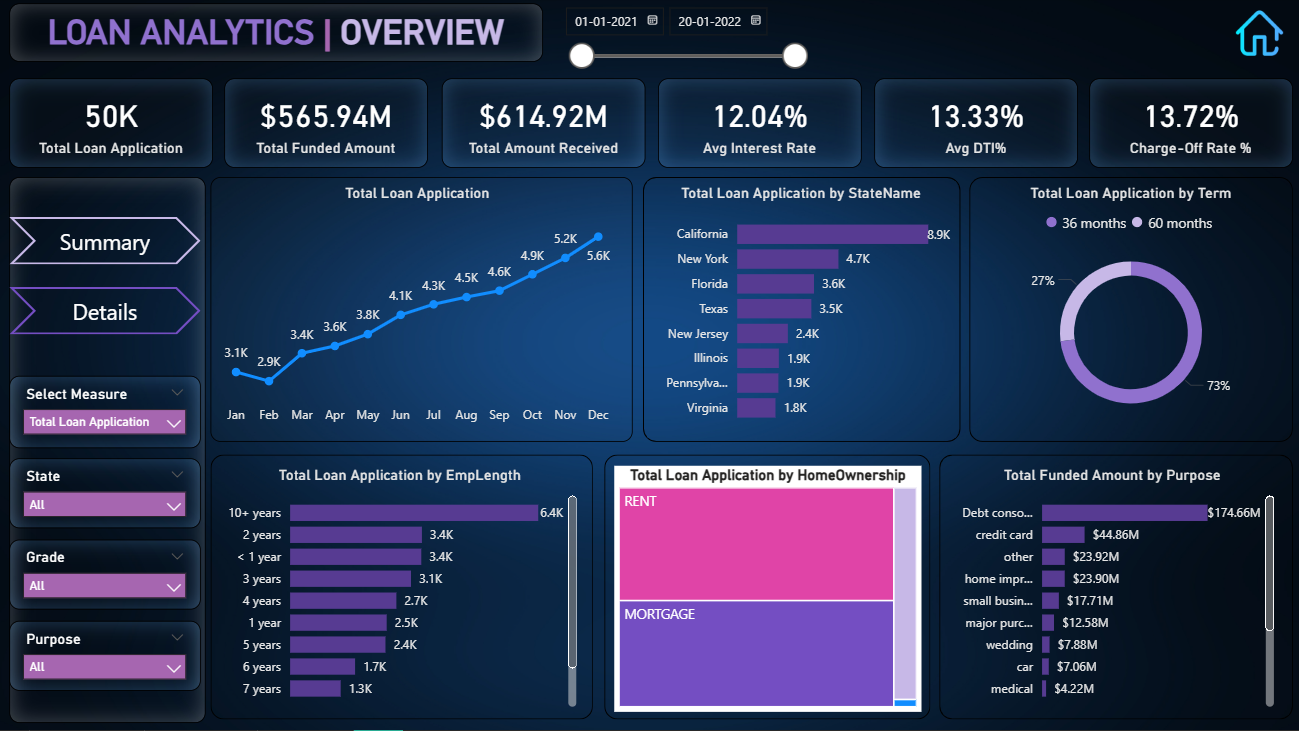

What the dashboard file says about the page in this screenshot:
{"tool":"powerbi","page":{"name":"Overview","canvas":[1280,720],"ordinal":1},"visuals":[{"type":"shape","box":[953.4,176.7,317.8,260.1],"z":0},{"type":"shape","box":[208.6,176.7,414.7,260.1],"z":1000},{"type":"shape","box":[11,176.7,192.6,536.2],"z":2000},{"type":"shape","box":[633.1,176.7,311.7,260.1],"z":3000},{"type":"shape","box":[208.6,449.1,375.5,260.1],"z":4000},{"type":"slicer","fields":{"Values":["Loan.Grade"]},"box":[11,532.5,187.7,68.7],"z":5000},{"type":"slicer","fields":{"Values":["LoanPurpose.Purpose"]},"box":[11,612.3,187.7,68.7],"z":6000},{"type":"slicer","fields":{"Values":["State.StateName"]},"box":[11,452.8,187.7,68.7],"z":7000},{"type":"lineChart","fields":{"Y":["Measure_table.Total_Loan_Application"],"Category":["Date.Months"]},"box":[216,184.1,391.4,244.2],"z":8000},{"type":"clusteredBarChart","fields":{"Y":["Measure_table.Total_Loan_Application"],"Category":["State.StateName"]},"box":[636.8,184.1,303.1,244.2],"z":9000},{"type":"donutChart","fields":{"Y":["Measure_table.Total_Loan_Application"],"Category":["Loan.Term"]},"box":[965.6,184.1,293.3,244.2],"z":10000},{"type":"clusteredBarChart","fields":{"Y":["Measure_table.Total_Loan_Application"],"Category":["Customer.EmpLength"]},"box":[216,460.1,357.1,241.7],"z":11000},{"type":"shape","box":[595.1,449.1,320.2,260.1],"z":12000},{"type":"treemap","fields":{"Values":["Measure_table.Total_Loan_Application"],"Group":["Customer.HomeOwnership"]},"box":[604.9,460.1,301.8,241.7],"z":13000},{"type":"shape","box":[923.9,449.1,347.2,260.1],"z":14000},{"type":"clusteredBarChart","title":"Total Funded Amount by Purpose","fields":{"Y":["Measure_table.Total_Funded_Amount"],"Category":["LoanPurpose.Purpose"]},"box":[930.1,460.1,327.6,241.7],"z":15000},{"type":"slicer","fields":{"Values":["Select Measure .Select Measure "]},"box":[11,371.8,187.7,71.2],"z":16000},{"type":"card","fields":{"Values":["Measure_table.Total_Loan_Application"]},"box":[11,79.8,200,88.3],"z":17000},{"type":"card","fields":{"Values":["Measure_table.Total_Funded_Amount"]},"box":[222.1,79.8,200,88.3],"z":18000},{"type":"card","fields":{"Values":["Measure_table.Total Amount Received"]},"box":[435.6,79.8,200,88.3],"z":19000},{"type":"card","fields":{"Values":["Measure_table.Average_Interest_Rate"]},"box":[647.9,79.8,200,88.3],"z":20000},{"type":"card","fields":{"Values":["Measure_table.Avg DTI%"]},"box":[860.1,79.8,200,88.3],"z":21000},{"type":"card","fields":{"Values":["Measure_table.Charge-Off Rate %"]},"box":[1071.2,79.8,200,88.3],"z":22000},{"type":"textbox","box":[11,6.1,523.9,57.7],"z":23000},{"type":"image","box":[1213,12.3,50,46.7],"z":24000},{"type":"shape","box":[11,216,187.7,46.6],"z":25000},{"type":"shape","box":[11,284.7,187.7,46.6],"z":26000},{"type":"slicer","fields":{"Values":["Date.Date"]},"box":[544.8,0,258.9,79.8],"z":27000}]}

Visuals, with their boxes in screenshot pixels (x1, y1, x2, y2), scaled from the page's 1280x720 canvas onto the 1299x731 screenshot:
shape: {"left": 968, "top": 179, "right": 1290, "bottom": 443}
shape: {"left": 212, "top": 179, "right": 633, "bottom": 443}
shape: {"left": 11, "top": 179, "right": 207, "bottom": 724}
shape: {"left": 642, "top": 179, "right": 959, "bottom": 443}
shape: {"left": 212, "top": 456, "right": 593, "bottom": 720}
slicer - Loan.Grade: {"left": 11, "top": 541, "right": 202, "bottom": 610}
slicer - LoanPurpose.Purpose: {"left": 11, "top": 622, "right": 202, "bottom": 691}
slicer - State.StateName: {"left": 11, "top": 460, "right": 202, "bottom": 529}
lineChart - Measure_table.Total_Loan_Application x Date.Months: {"left": 219, "top": 187, "right": 616, "bottom": 435}
clusteredBarChart - Measure_table.Total_Loan_Application x State.StateName: {"left": 646, "top": 187, "right": 954, "bottom": 435}
donutChart - Measure_table.Total_Loan_Application x Loan.Term: {"left": 980, "top": 187, "right": 1278, "bottom": 435}
clusteredBarChart - Measure_table.Total_Loan_Application x Customer.EmpLength: {"left": 219, "top": 467, "right": 582, "bottom": 713}
shape: {"left": 604, "top": 456, "right": 929, "bottom": 720}
treemap - Measure_table.Total_Loan_Application x Customer.HomeOwnership: {"left": 614, "top": 467, "right": 920, "bottom": 713}
shape: {"left": 938, "top": 456, "right": 1290, "bottom": 720}
"Total Funded Amount by Purpose" clusteredBarChart: {"left": 944, "top": 467, "right": 1276, "bottom": 713}
slicer - Select Measure .Select Measure : {"left": 11, "top": 377, "right": 202, "bottom": 450}
card - Measure_table.Total_Loan_Application: {"left": 11, "top": 81, "right": 214, "bottom": 171}
card - Measure_table.Total_Funded_Amount: {"left": 225, "top": 81, "right": 428, "bottom": 171}
card - Measure_table.Total Amount Received: {"left": 442, "top": 81, "right": 645, "bottom": 171}
card - Measure_table.Average_Interest_Rate: {"left": 658, "top": 81, "right": 860, "bottom": 171}
card - Measure_table.Avg DTI%: {"left": 873, "top": 81, "right": 1076, "bottom": 171}
card - Measure_table.Charge-Off Rate %: {"left": 1087, "top": 81, "right": 1290, "bottom": 171}
textbox: {"left": 11, "top": 6, "right": 543, "bottom": 65}
image: {"left": 1231, "top": 12, "right": 1282, "bottom": 60}
shape: {"left": 11, "top": 219, "right": 202, "bottom": 267}
shape: {"left": 11, "top": 289, "right": 202, "bottom": 336}
slicer - Date.Date: {"left": 553, "top": 0, "right": 816, "bottom": 81}
